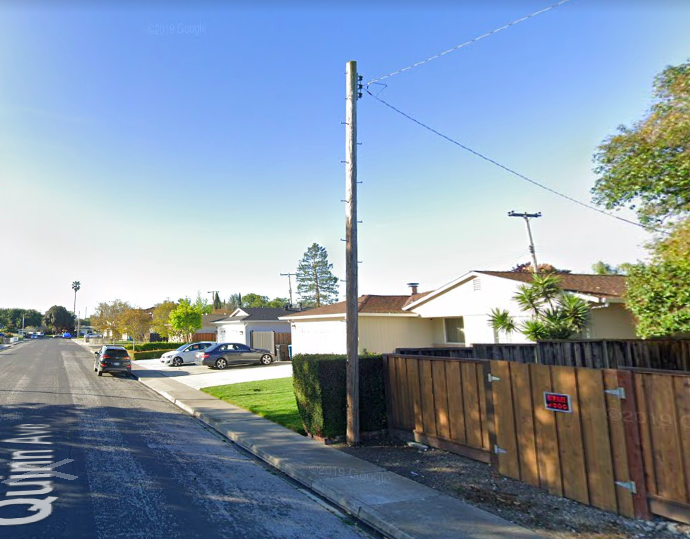utility_pole: (328, 51, 379, 153), (505, 200, 547, 248)
